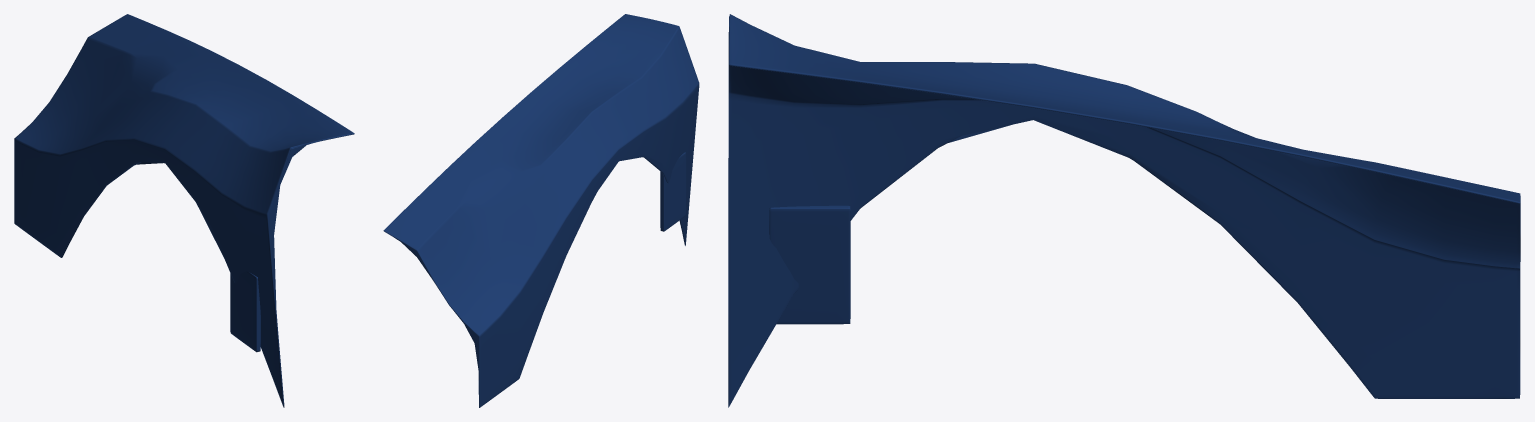
The model's file is fender_fr.glb.
3 renders of one model, left to right at view 1: azimuth 30°, elevation 25°; view 2: azimuth 150°, elevation 25°; view 3: azimuth 270°, elevation 25°, orthographic. The views are drawn at different scales.
Visible parts, largest first — view 1: GEO_Fender_FR; view 2: GEO_Fender_FR; view 3: GEO_Fender_FR.
Boxes of the visible parts, x1,y1,x2,y2 form: GEO_Fender_FR: [14, 14, 354, 407]; GEO_Fender_FR: [383, 14, 699, 407]; GEO_Fender_FR: [728, 14, 1520, 407].
Bounding box in the file's own units: 0.3685 × 0.7581 × 1.36.
